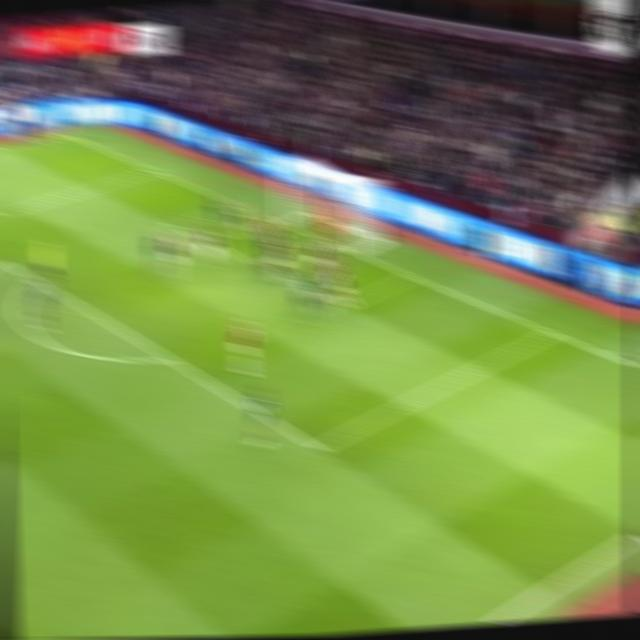bigarea_bottom_inner: (306, 432, 332, 460)
bigarea_bottom_outter: (542, 325, 562, 341)
bigarea_top_outter: (143, 164, 162, 177)
bottom_arc_area_intersection: (157, 348, 180, 369)
corner: (53, 128, 74, 138)
smallarea_bottom_outter: (399, 266, 422, 284)
smallarea_top_inner: (162, 218, 190, 237)
smallarea_top_outter: (229, 199, 249, 213)
top_arc_area_intersection: (27, 272, 46, 288)
